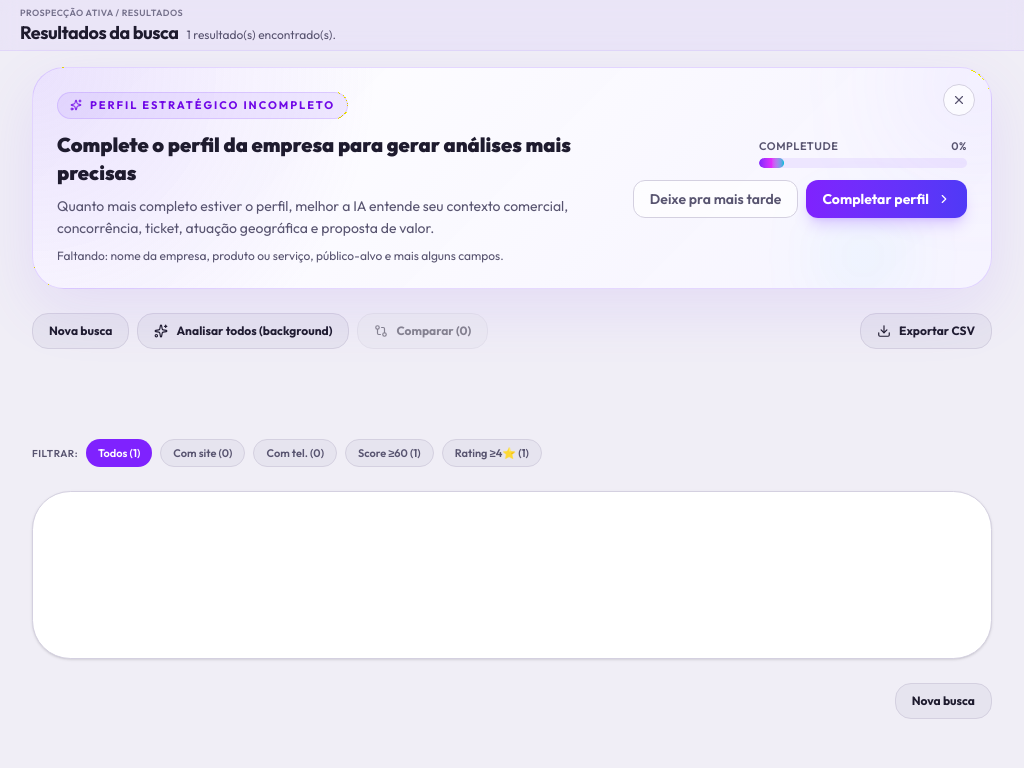
Scenario: ResultadosPage › renders empty filter state with reset action
Click the button "Com site (0)".
click(203, 453)  # box x1=160 y1=439 x2=246 y2=467
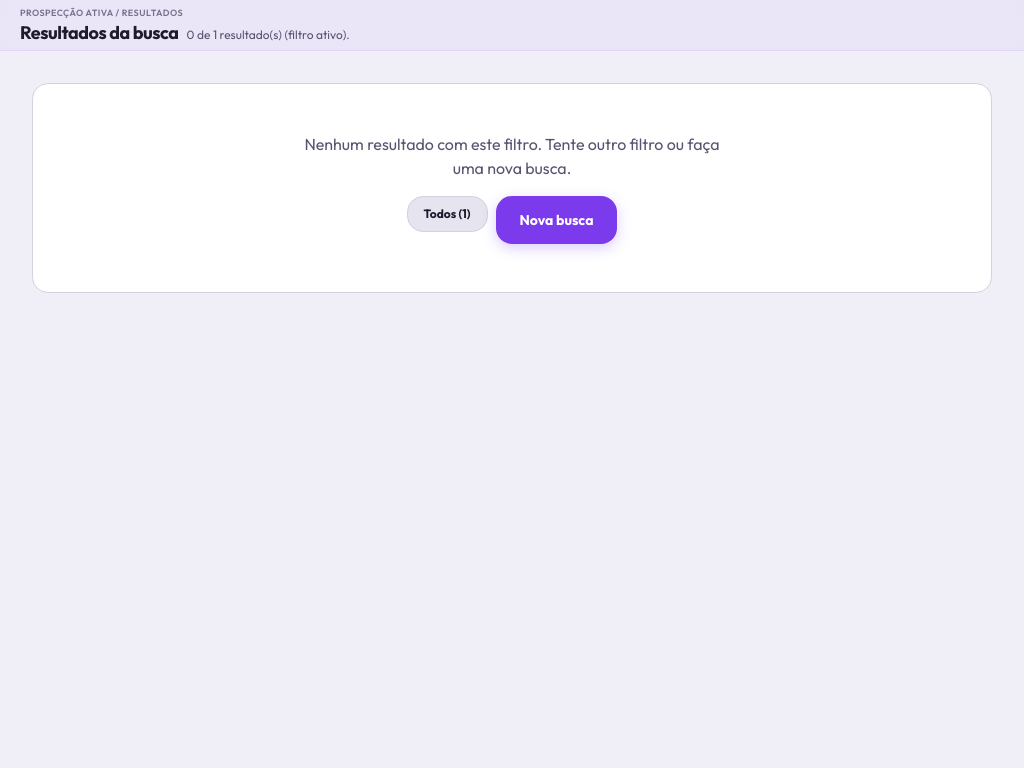
Check: the button "Todos (1)" is shown, box x1=406 y1=196 x2=488 y2=232
Check: the text "Nenhum resultado com este filtro" is shown, box x1=304 y1=134 x2=720 y2=178
